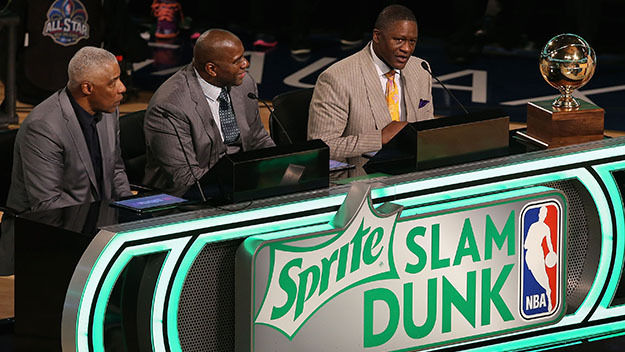sprite: (271, 216, 382, 324), (269, 216, 382, 321)
